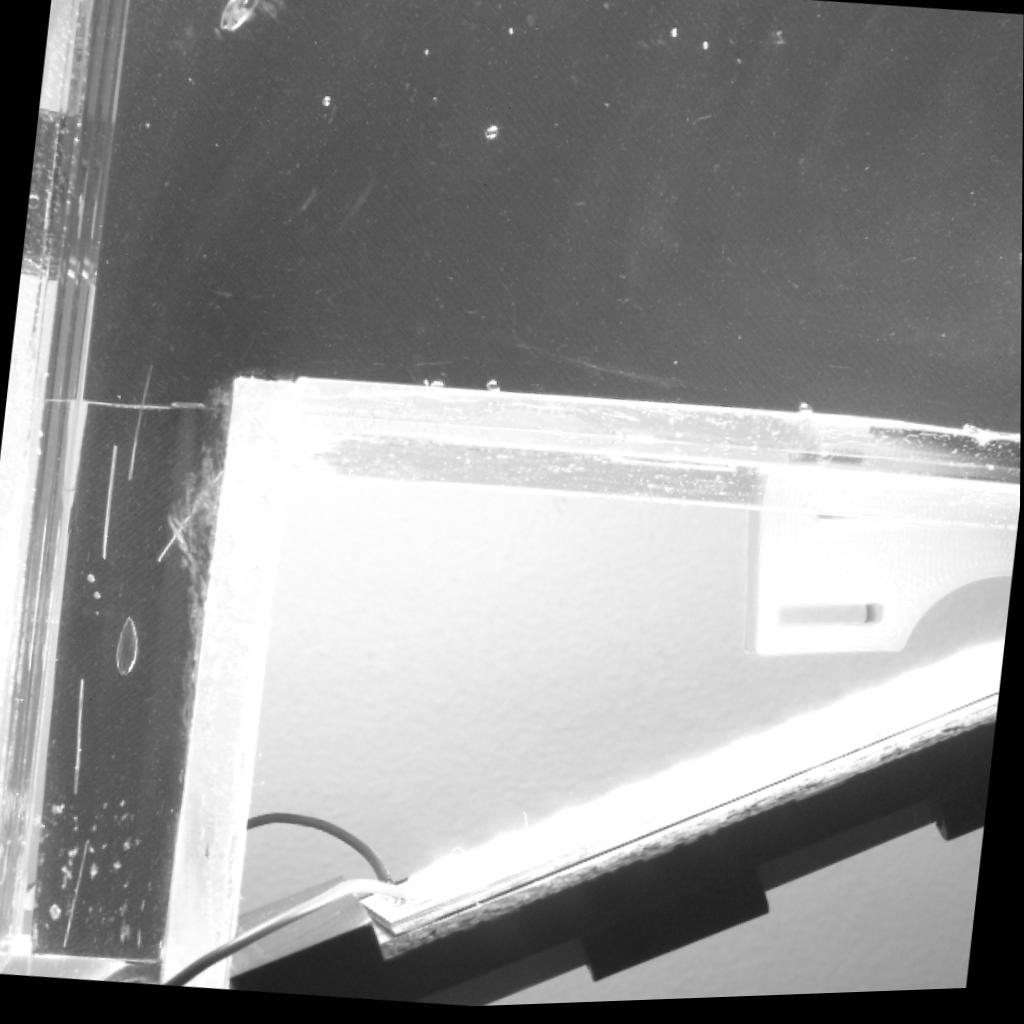Fiber: (154, 465, 230, 560), (61, 837, 94, 946), (127, 365, 153, 479), (102, 442, 120, 557), (72, 673, 87, 793)
